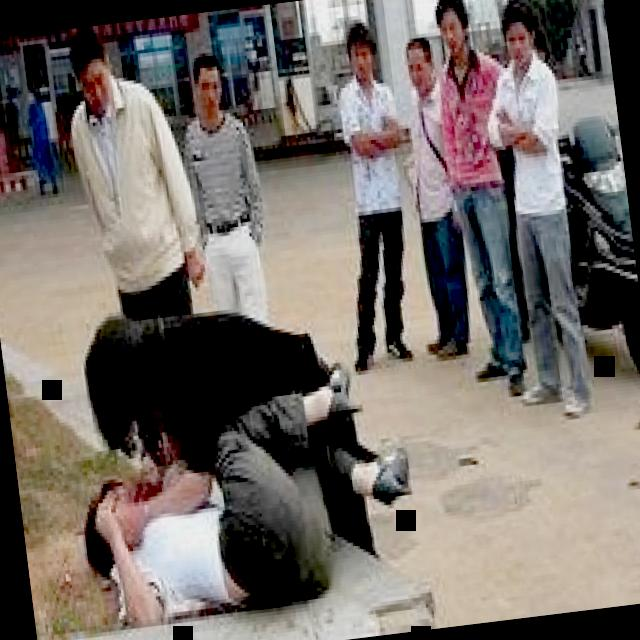Fall-Detected: (48, 296, 436, 634)
